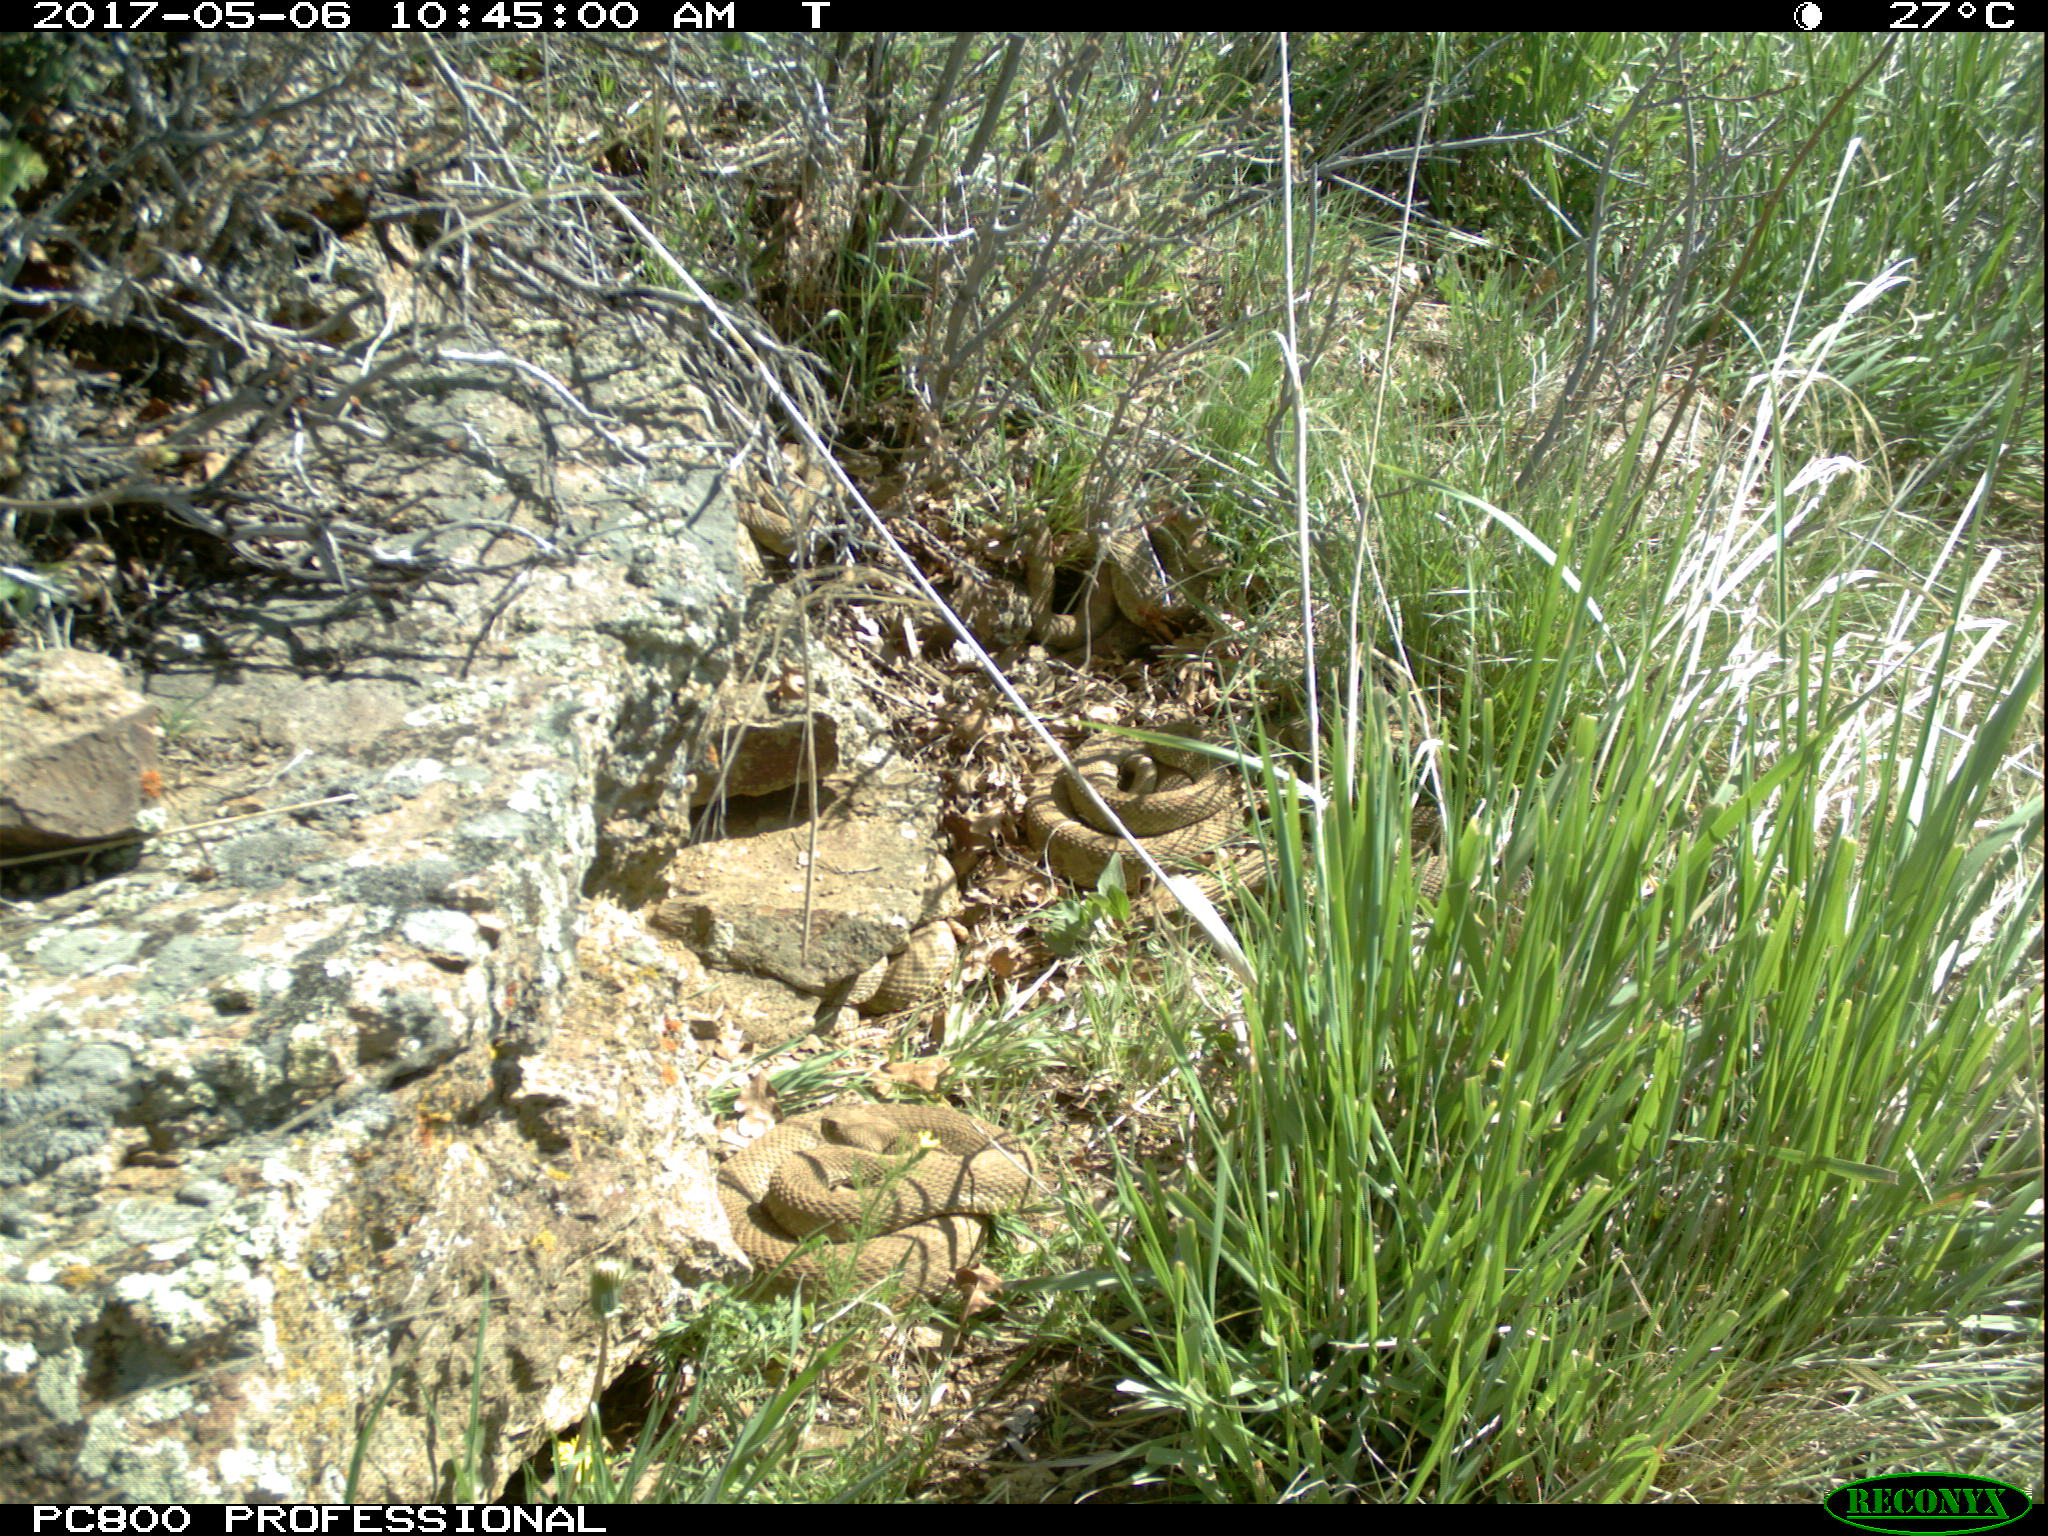snake: (714, 1099, 1072, 1321), (1034, 721, 1264, 886), (814, 908, 987, 1026)
